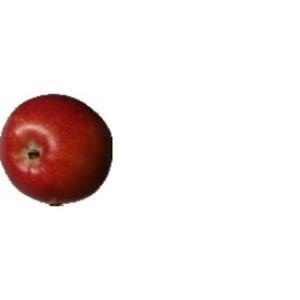maçã braeburn: (1, 91, 113, 204)
